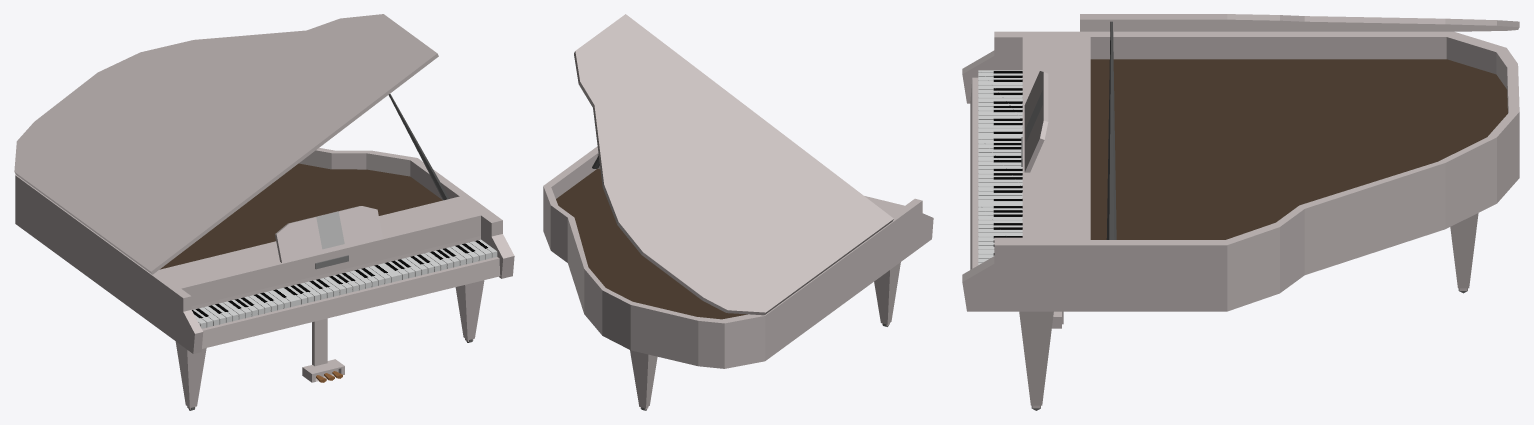
The model's file is Piano White.fbx.
3 views of the same model, side by side, from view 1: azimuth 30°, elevation 25°; view 2: azimuth 150°, elevation 25°; view 3: azimuth 270°, elevation 25° (orthographic). The views are drawn at different scales.
Parts seen in each view (by area): view 1: Piano White, Piano Key; view 2: Piano White; view 3: Piano White, Piano Key.
Part boxes in pixels (left/top/right/bottom): Piano White: left=14, top=14, right=514, bottom=410; Piano Key: left=192, top=239, right=497, bottom=328; Piano White: left=543, top=14, right=933, bottom=410; Piano White: left=962, top=14, right=1519, bottom=410; Piano Key: left=978, top=70, right=1022, bottom=264.
Size of the model in its own units: 188 by 160 by 207.
